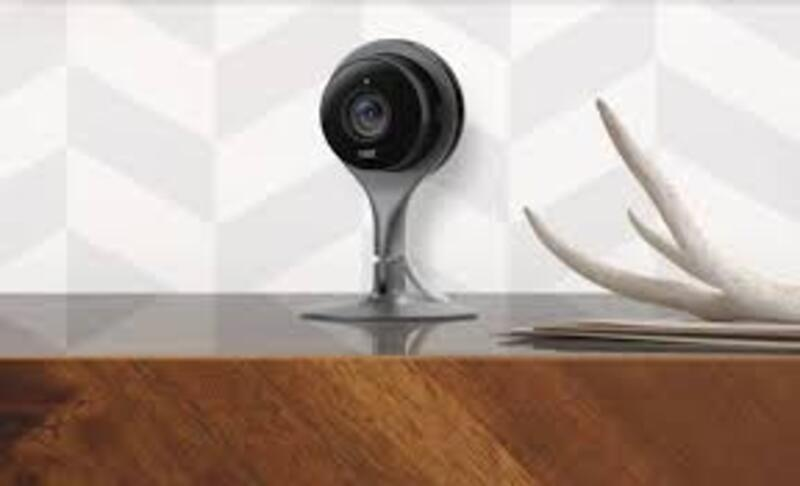nest: (315, 39, 467, 186)
